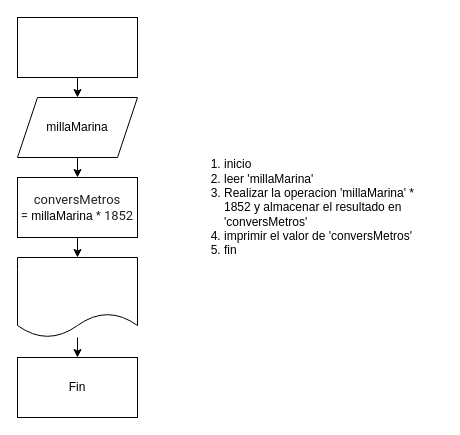
Some shapes in this 460 by 435 pixel diagram are drawn without their labels. Here are the shapes that lost their labels. From the top down, the centre of each, then its label:
At [77,47]: "Inicio".
At [77,297]: "conversMetros".
